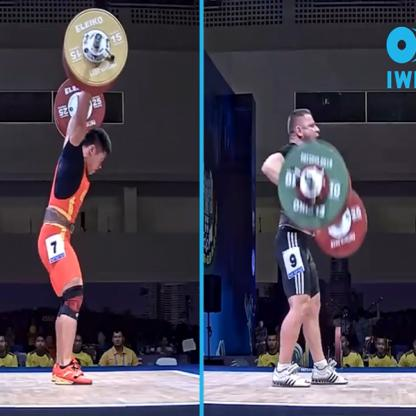Barbell: (270, 133, 358, 237), (57, 6, 133, 91)
